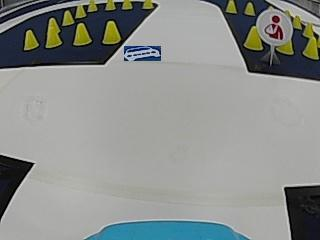cone: (243, 25, 263, 50), (45, 18, 62, 46), (101, 21, 121, 44), (73, 23, 91, 45), (303, 34, 318, 59), (24, 30, 39, 49), (63, 10, 74, 25), (75, 4, 86, 18), (225, 1, 237, 13), (243, 2, 255, 14), (87, 0, 98, 12), (141, 0, 154, 10), (292, 14, 301, 28), (104, 0, 115, 11), (121, 0, 132, 10)
patient: (260, 9, 287, 40)
